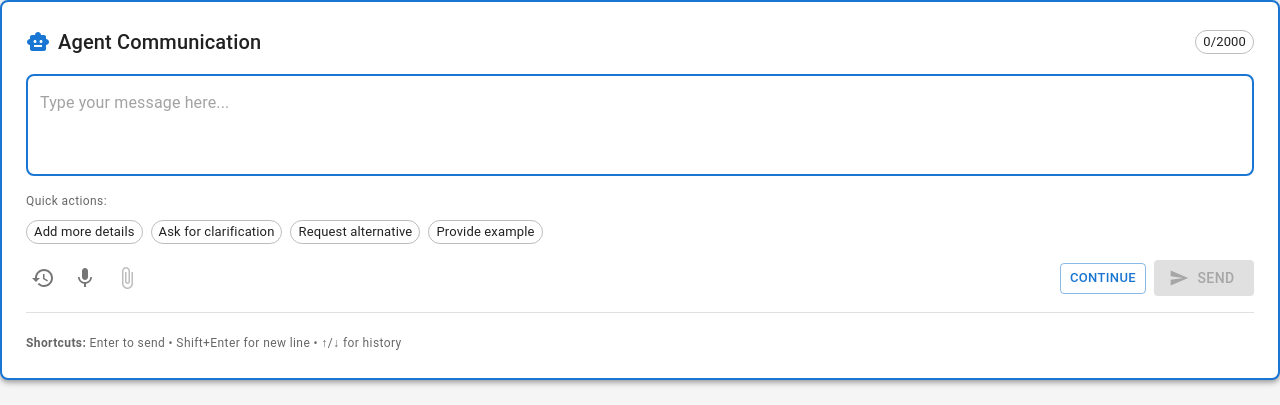
Test: UserInputPanel › Quick Actions › populates input when quick action is clicked
Step 1. Click the button "Add more details" → click(84, 232), box [26,220,143,244]
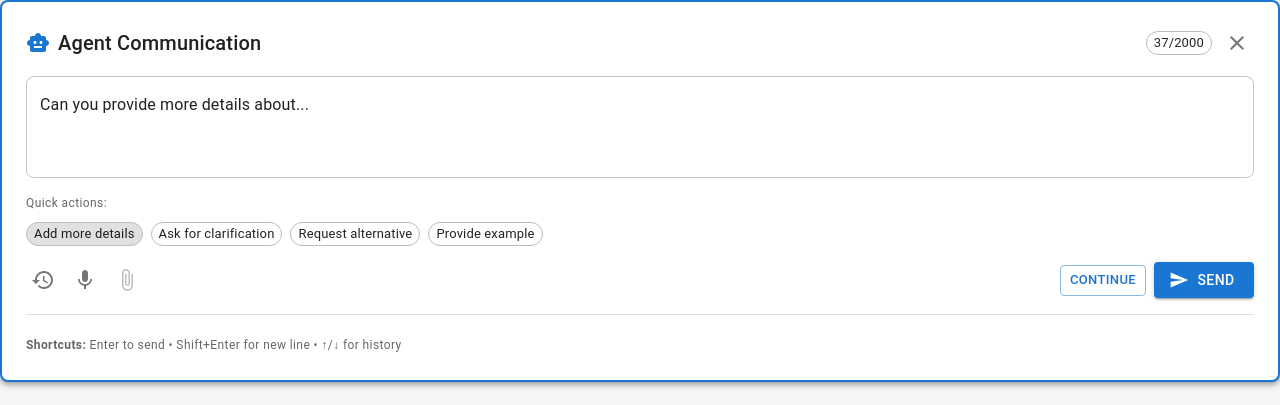
expect the text box with placeholder "Type your message here..." holds "Can you provide more details about...": met, box [40,92,1240,162]
